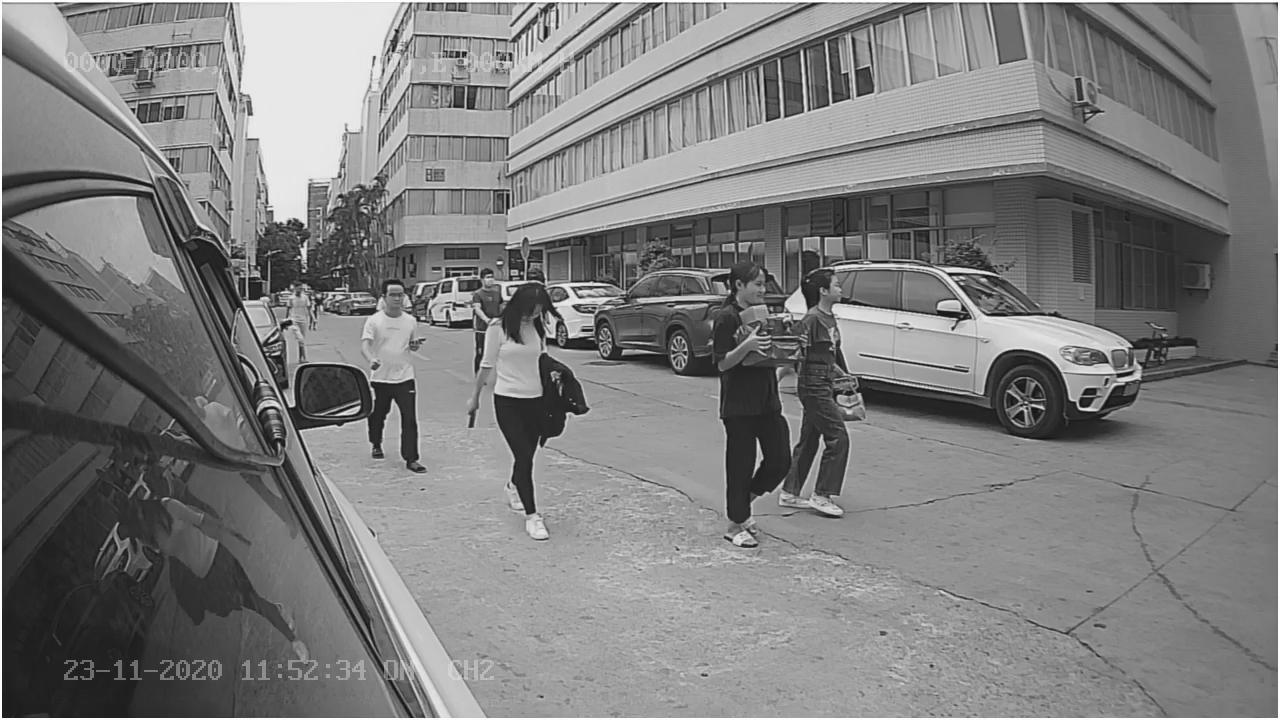person: (708, 258, 793, 556), (485, 280, 558, 532)
